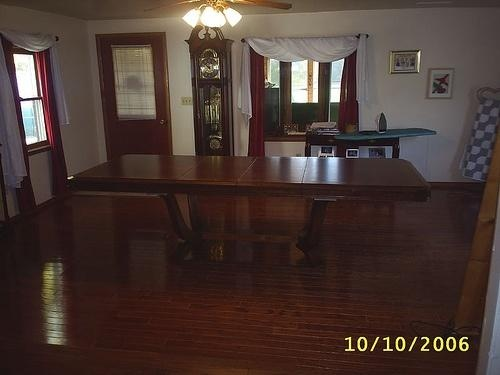diningtable: (67, 156, 433, 273)
